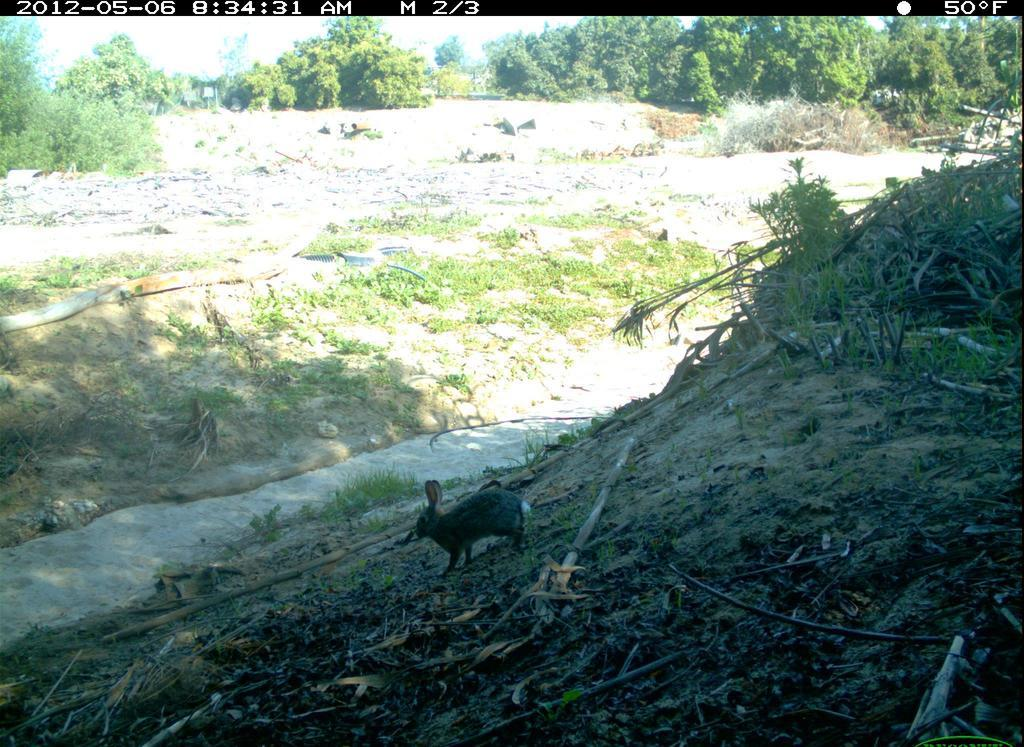rabbit: (409, 477, 555, 579)
